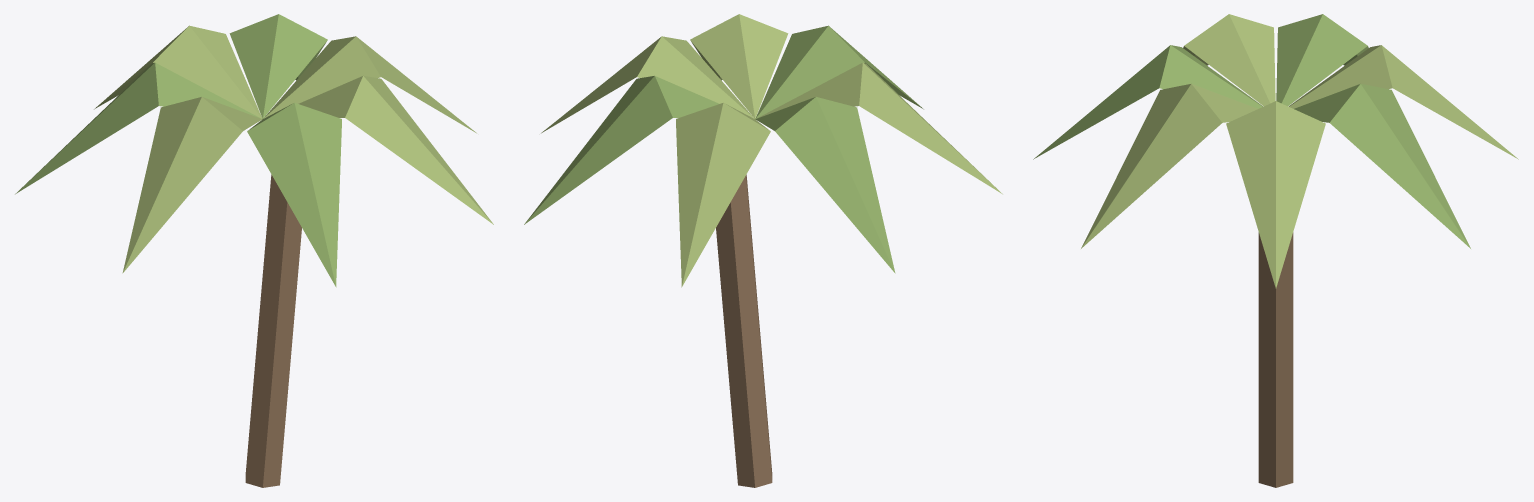
The model's file is tree_banana.glb.
3 renders of one model, left to right at view 1: azimuth 30°, elevation 25°; view 2: azimuth 150°, elevation 25°; view 3: azimuth 270°, elevation 25°, orthographic.
Parts seen in each view (by area): view 1: part_0, part_6, part_5, part_7, part_2, part_4, part_3, part_1; view 2: part_0, part_3, part_4, part_2, part_7, part_5, part_6, part_1; view 3: part_1, part_0, part_2, part_7, part_4, part_5, part_3, part_6.
Part boxes in pixels (left/top/right/bottom): part_0: left=245, top=174, right=301, bottom=487; part_6: left=247, top=102, right=341, bottom=287; part_5: left=122, top=97, right=262, bottom=273; part_7: left=298, top=75, right=493, bottom=224; part_2: left=229, top=14, right=327, bottom=118; part_4: left=15, top=62, right=261, bottom=194; part_3: left=94, top=25, right=262, bottom=118; part_1: left=263, top=36, right=476, bottom=133; part_0: left=716, top=174, right=772, bottom=487; part_3: left=676, top=102, right=770, bottom=287; part_4: left=755, top=97, right=895, bottom=273; part_2: left=524, top=75, right=719, bottom=224; part_7: left=690, top=14, right=788, bottom=118; part_5: left=756, top=62, right=1002, bottom=194; part_6: left=755, top=25, right=923, bottom=118; part_1: left=541, top=36, right=754, bottom=133; part_1: left=1226, top=101, right=1325, bottom=288; part_0: left=1258, top=232, right=1293, bottom=487; part_2: left=1294, top=83, right=1470, bottom=248; part_7: left=1081, top=83, right=1257, bottom=248; part_4: left=1276, top=14, right=1368, bottom=106; part_5: left=1183, top=14, right=1275, bottom=106; part_3: left=1289, top=45, right=1518, bottom=159; part_6: left=1033, top=45, right=1262, bottom=159.
Bounding box in the file's own units: 2.85 × 2.81 × 2.92.
